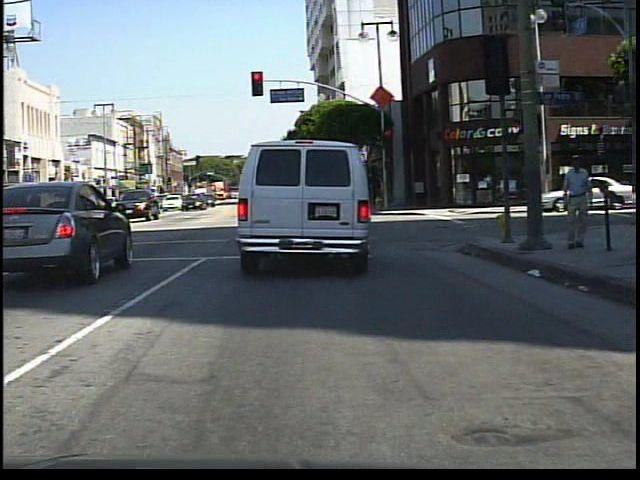person: (560, 152, 603, 254)
